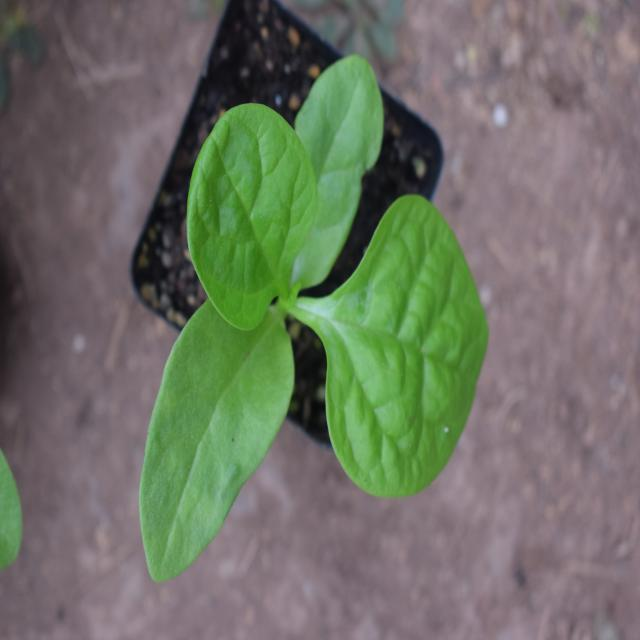Ceylon spinach: (146, 83, 489, 604)
